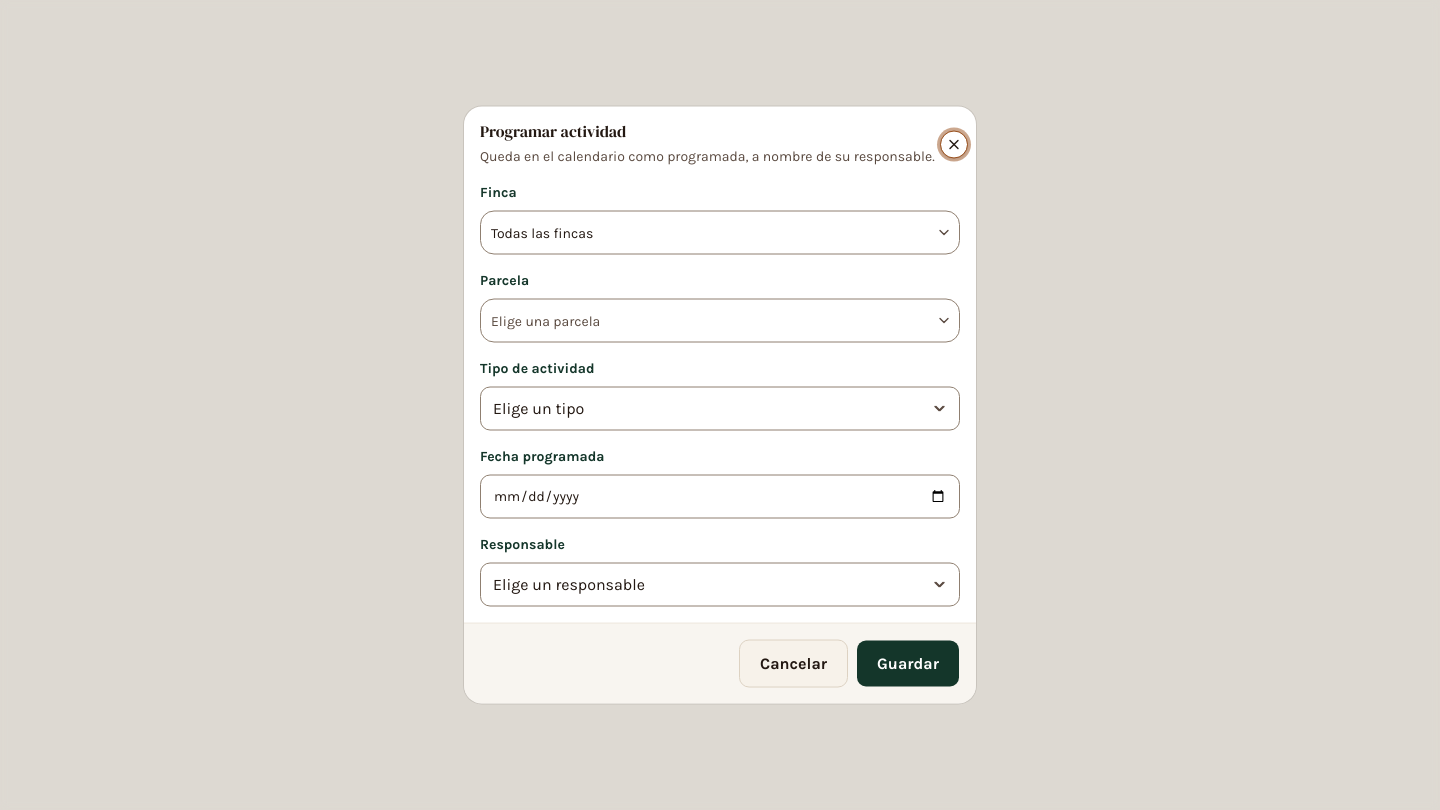
Test case: ActivityFormDialog › lists the plots of every farm from the start, grouped by farm
Click the dropdown labelled "Parcela".
click(706, 320)  # box x1=481 y1=304 x2=932 y2=336
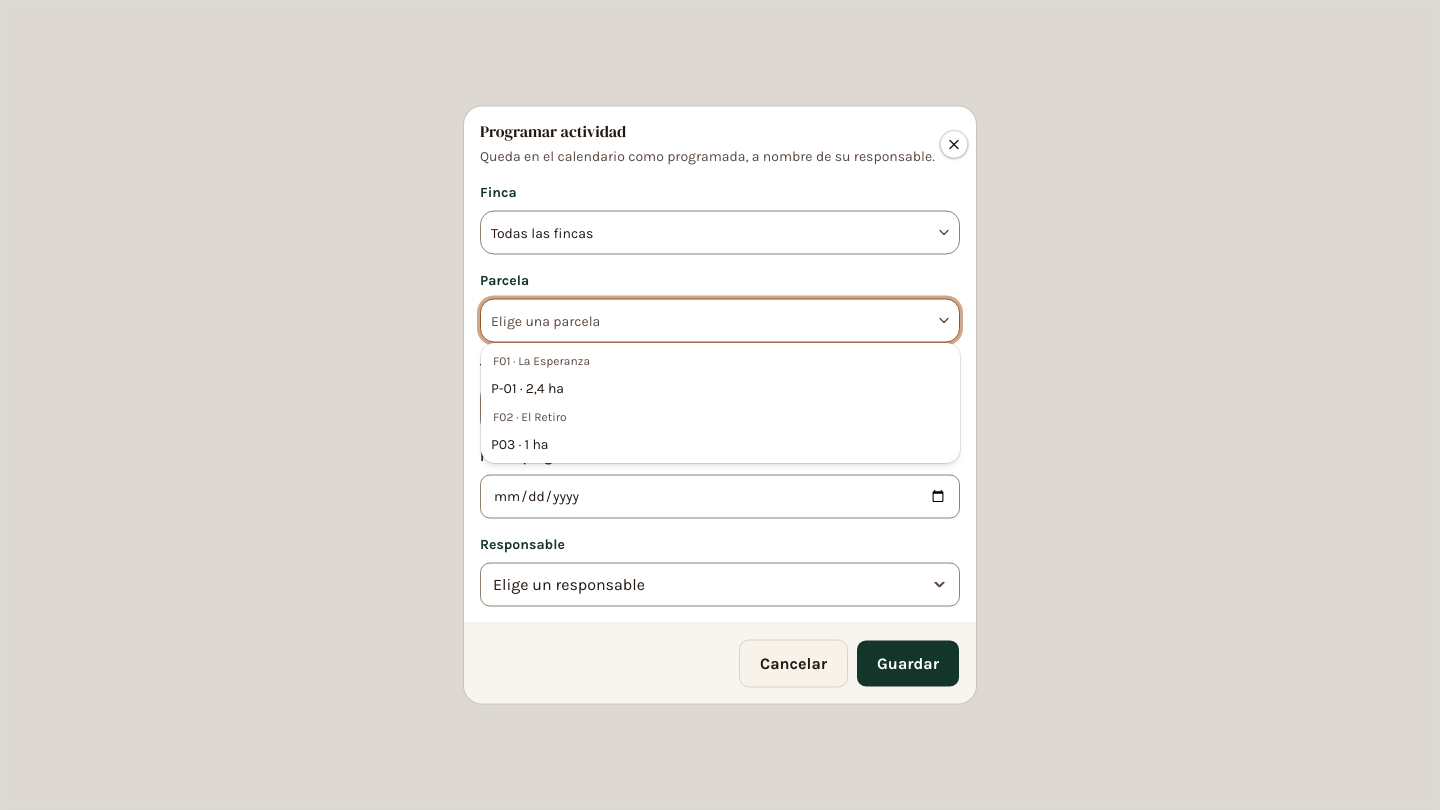
Press Escape
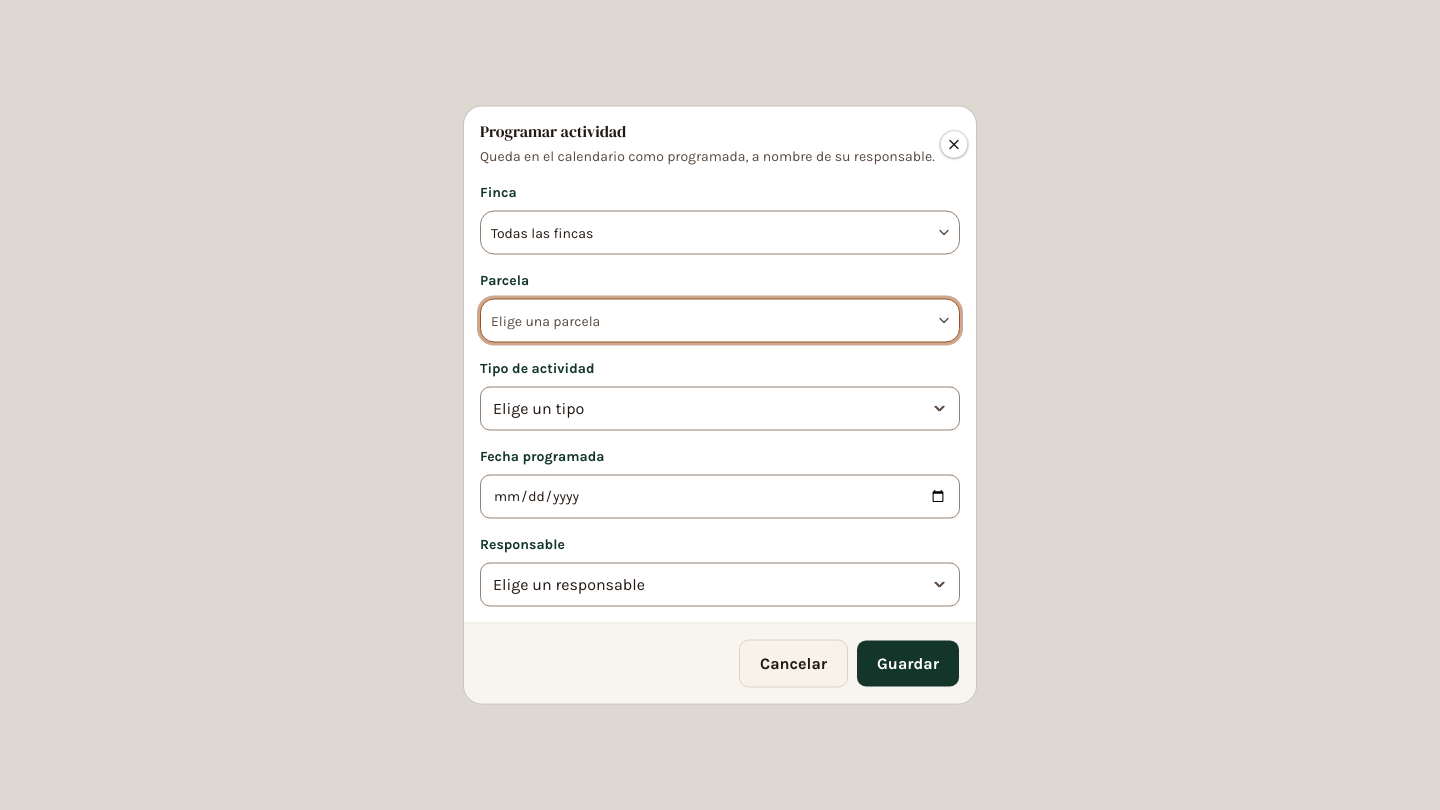
Click the dropdown labelled "Parcela".
click(706, 320)  # box x1=481 y1=304 x2=932 y2=336
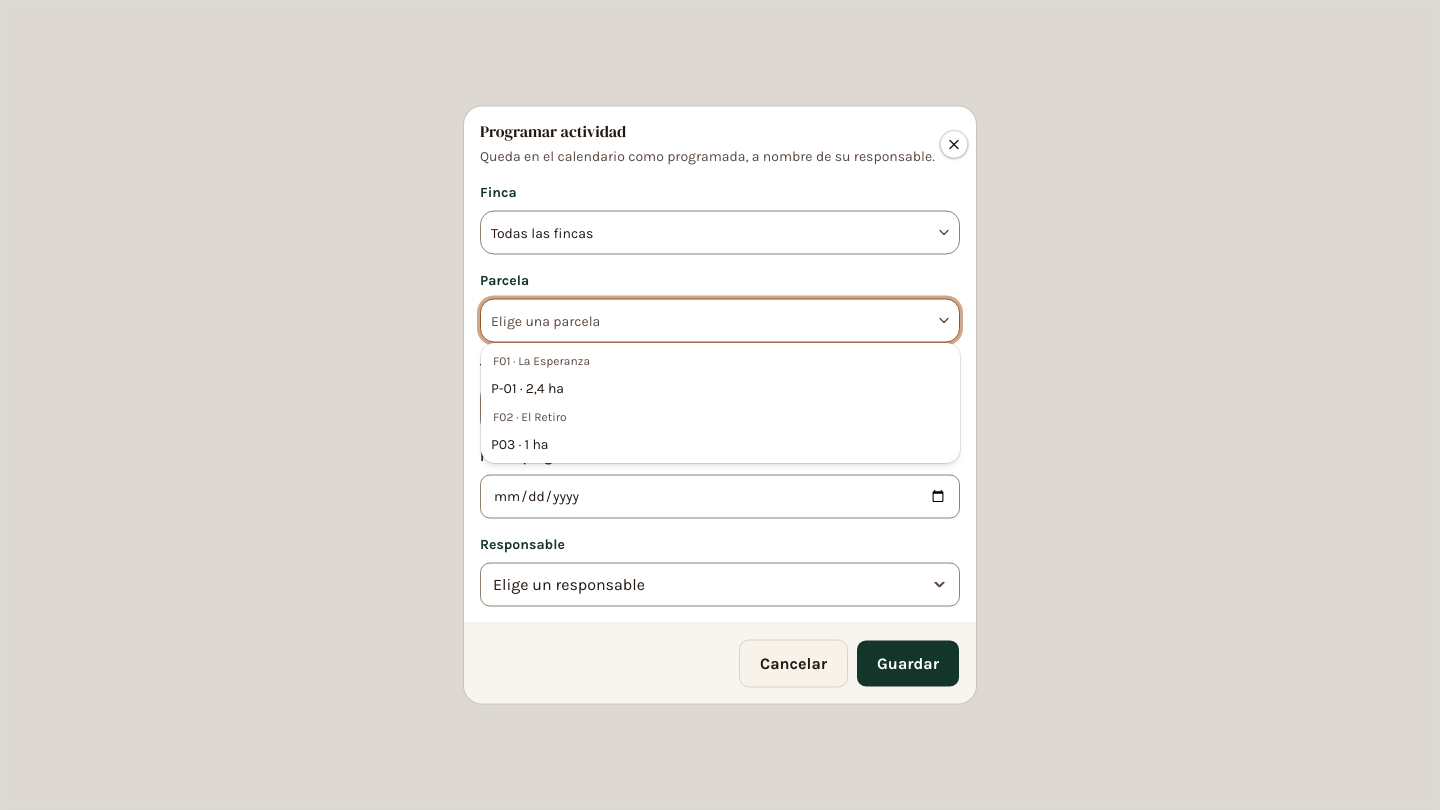
Check: the element "F01 · La Esperanza" is shown, box x1=491 y1=354 x2=590 y2=397
Check: the element "F02 · El Retiro" is shown, box x1=491 y1=410 x2=567 y2=453
